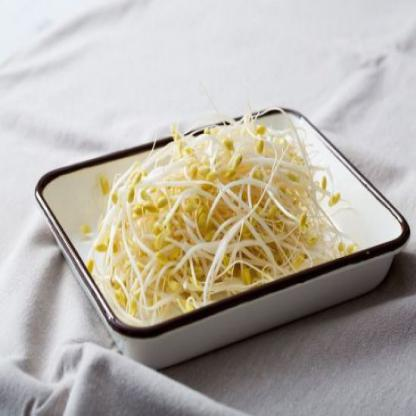bean sprouts: (122, 133, 322, 265)
